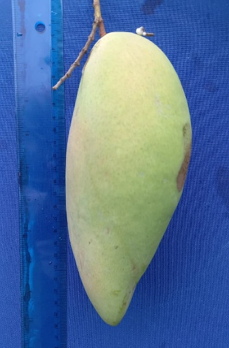Mango-afectado: (66, 33, 190, 324)
Mango-area-afectada: (177, 140, 190, 190)
